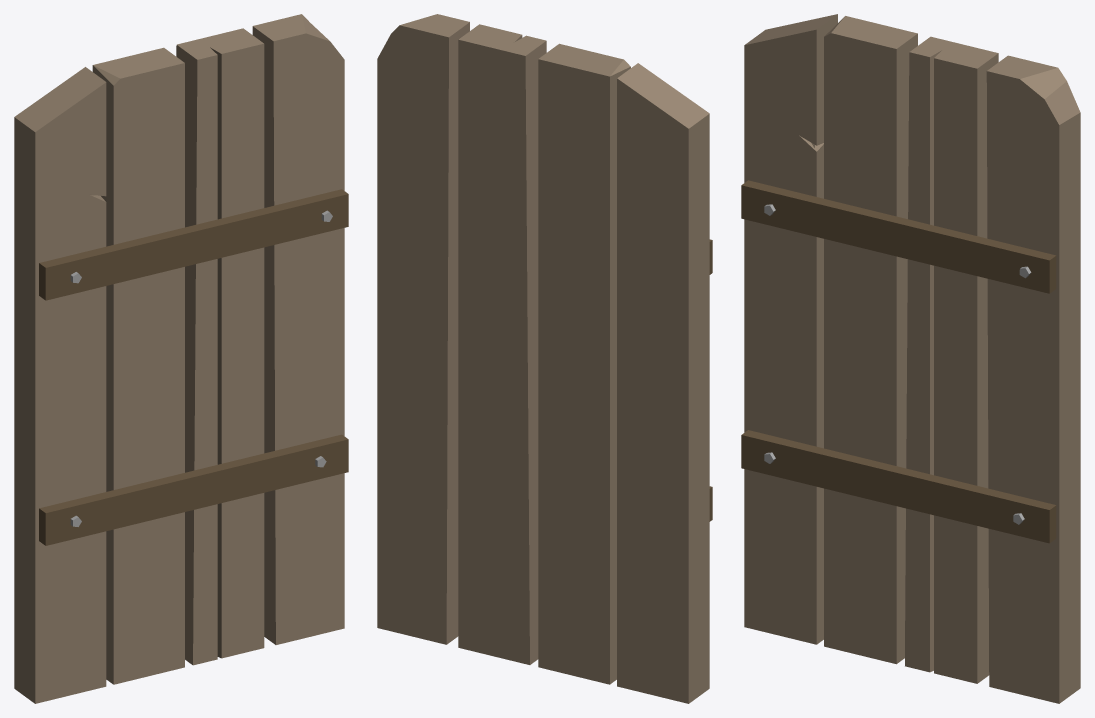
Rendered from door_mesh_test1.fbx.
The picture shows the model from 3 angles, left to right: view 1: azimuth 30°, elevation 25°; view 2: azimuth 150°, elevation 25°; view 3: azimuth 330°, elevation 25°; orthographic projection.
Visible parts, largest first — view 1: pCube3, pCube2, pCube4, pCube1, pCube5, pCube6; view 2: pCube3, pCube2, pCube4, pCube1; view 3: pCube4, pCube1, pCube2, pCube3, pCube5, pCube6.
Part boxes in pixels (<box>): pCube3: <box>14,67,106,703</box>; pCube2: <box>176,28,264,665</box>; pCube4: <box>252,14,344,644</box>; pCube1: <box>92,47,184,684</box>; pCube5: <box>39,434,348,545</box>; pCube6: <box>39,189,348,300</box>; pCube3: <box>617,63,709,703</box>; pCube2: <box>458,24,546,664</box>; pCube4: <box>377,14,469,644</box>; pCube1: <box>538,43,630,684</box>; pCube4: <box>986,55,1080,703</box>; pCube1: <box>824,16,917,664</box>; pCube2: <box>905,36,998,683</box>; pCube3: <box>744,14,837,644</box>; pCube5: <box>741,430,1056,543</box>; pCube6: <box>741,180,1056,293</box>.
Bounding box in the file's own units: 2.05 × 3.83 × 0.3446.
